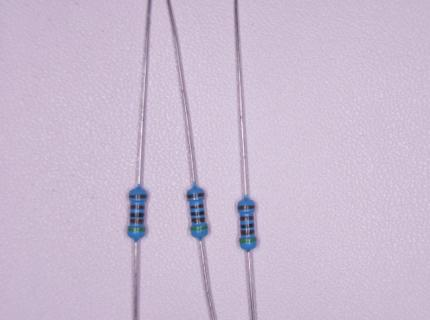Black band: (240, 223, 254, 229), (191, 211, 205, 216), (130, 213, 144, 217)
Brown band: (187, 192, 205, 198), (237, 205, 255, 210), (192, 217, 205, 223), (241, 230, 255, 235), (240, 216, 254, 221), (190, 204, 204, 209), (130, 219, 144, 224), (131, 205, 145, 209), (129, 195, 147, 198)
Green band: (239, 237, 256, 243), (190, 226, 208, 231), (128, 227, 146, 231)
